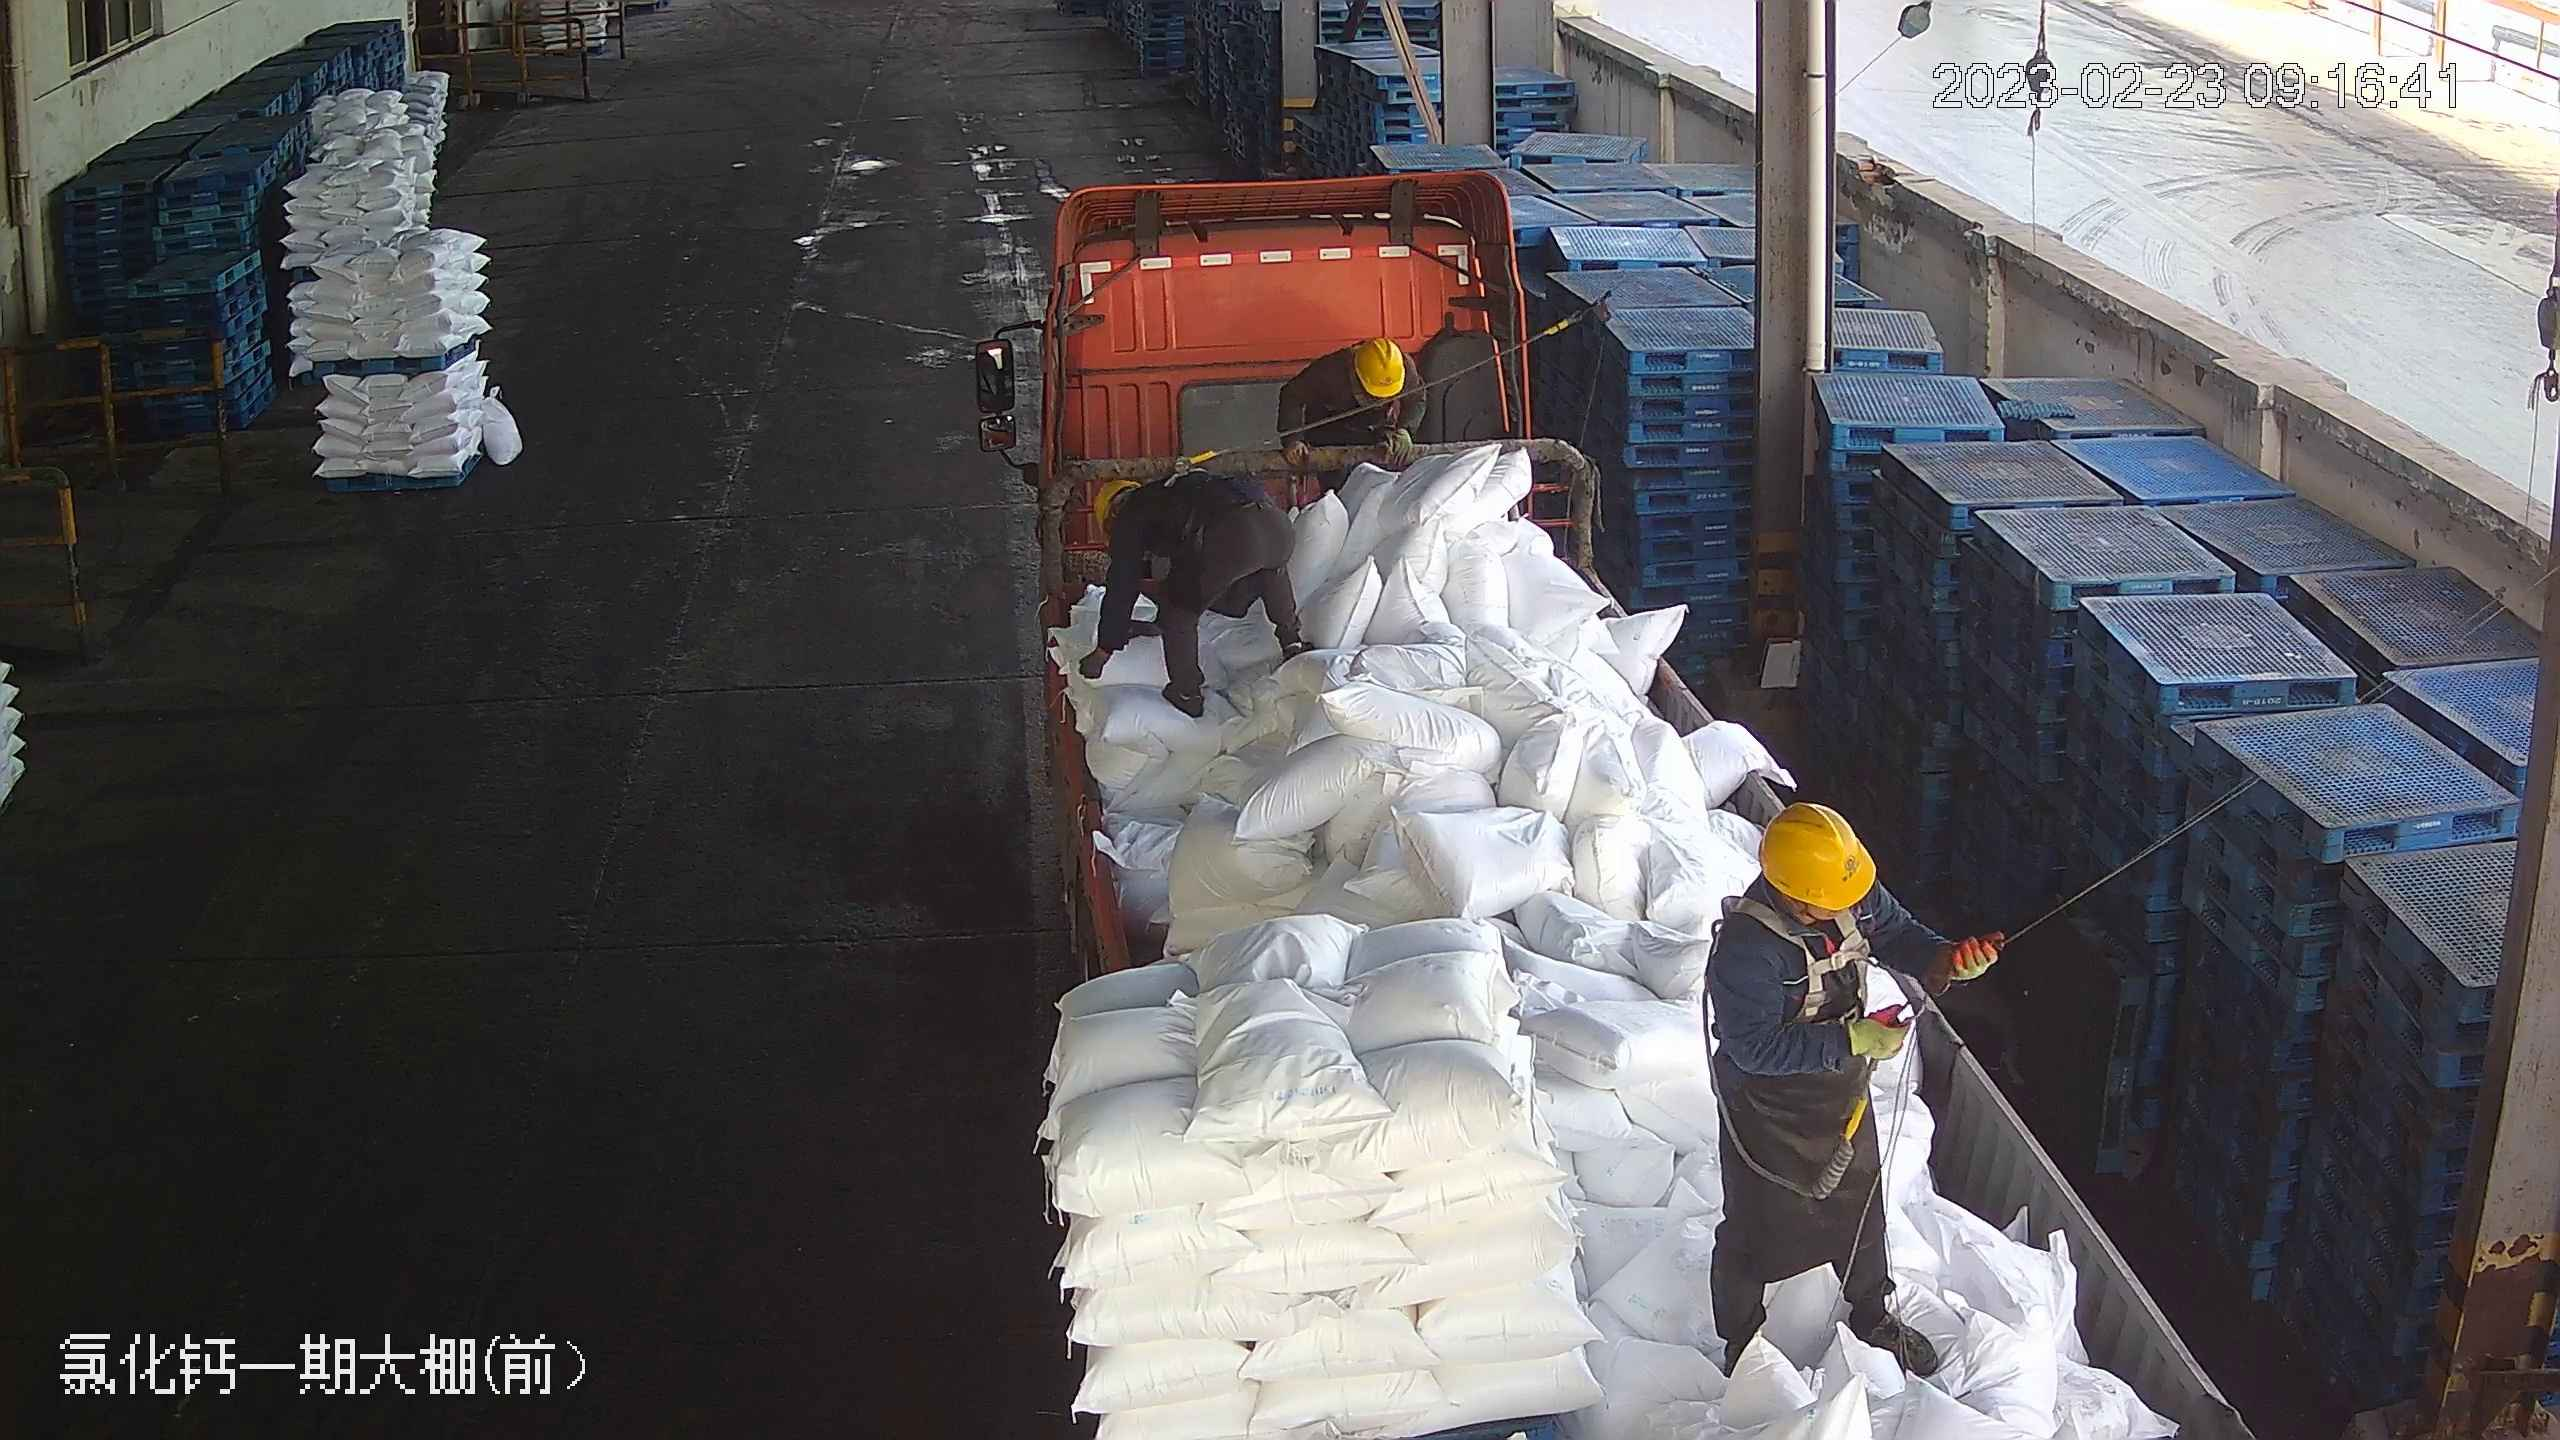belt: (1746, 909, 1870, 1030), (1158, 439, 1238, 489), (1345, 338, 1378, 408)
head: (1719, 805, 1890, 991), (1094, 462, 1213, 538), (1321, 334, 1415, 412)
helmet: (1756, 799, 1874, 905), (1353, 335, 1409, 394), (1085, 474, 1138, 525)
people: (1706, 808, 1996, 1379), (1069, 466, 1318, 719)
truck: (979, 164, 2262, 1427)
